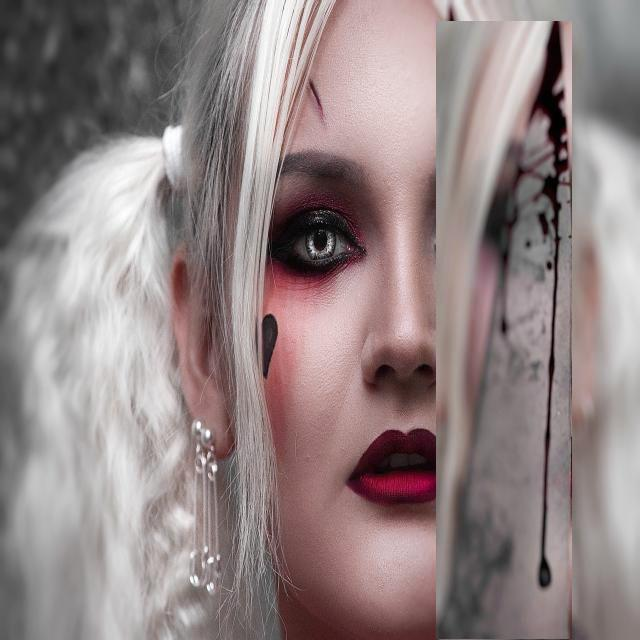Knife: (436, 22, 572, 639)
